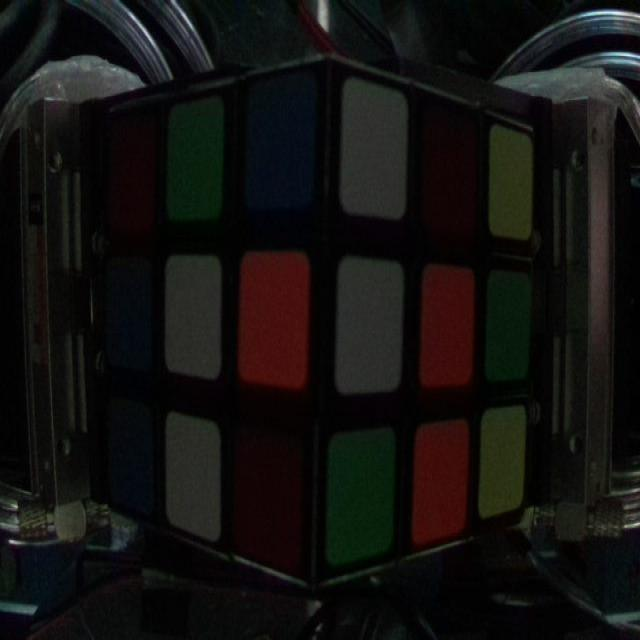r: (238, 434, 305, 563), (95, 382, 158, 505), (98, 104, 158, 231)
